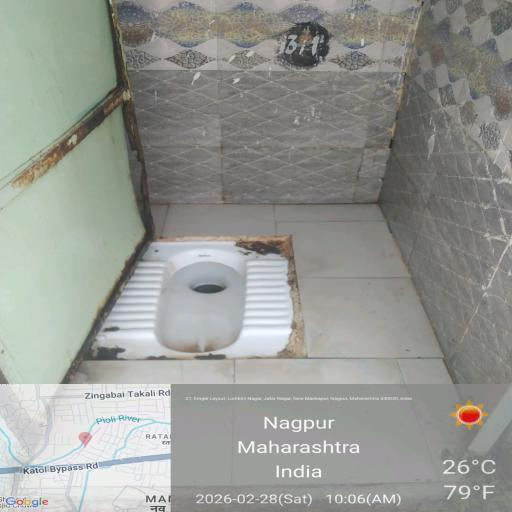clean_floor: (179, 17, 484, 170)
damage: (199, 211, 337, 280)
partial_dirty_floor: (130, 212, 500, 502)
partial_dirty_indian: (60, 198, 308, 378)
